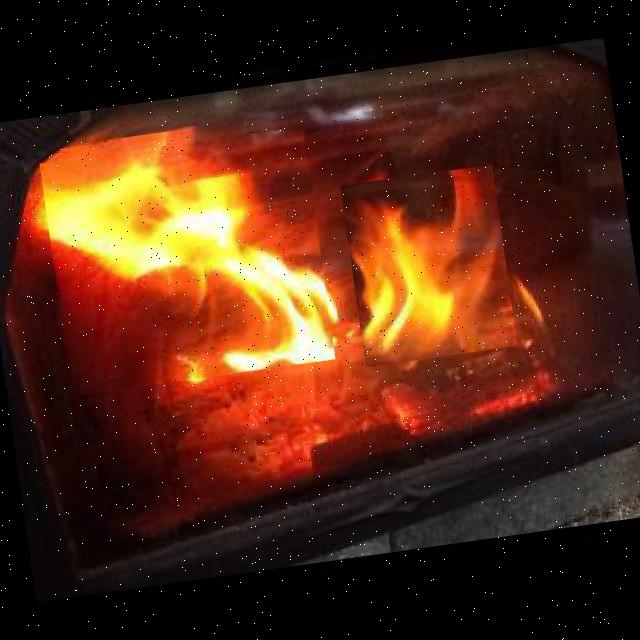fire: (39, 126, 336, 396), (340, 165, 518, 368)
